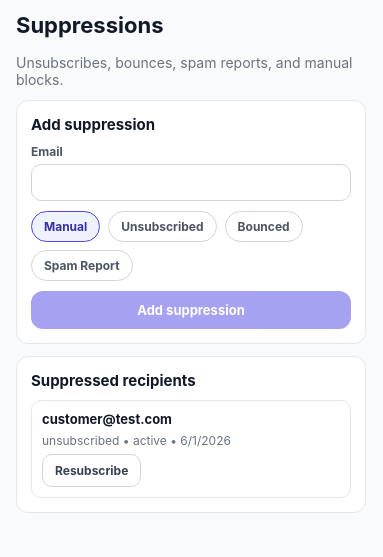
Test: OwnerMarketingSuppressionsScreen › resubscribes an active suppression
Step 1. Click the button with aria-label "Resubscribe sup_1" → [92, 470], box [42,454,141,487]
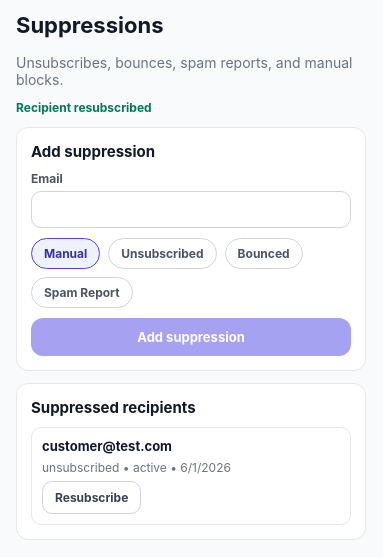
Result: the text "Recipient resubscribed" is shown at [16,100,152,115]
